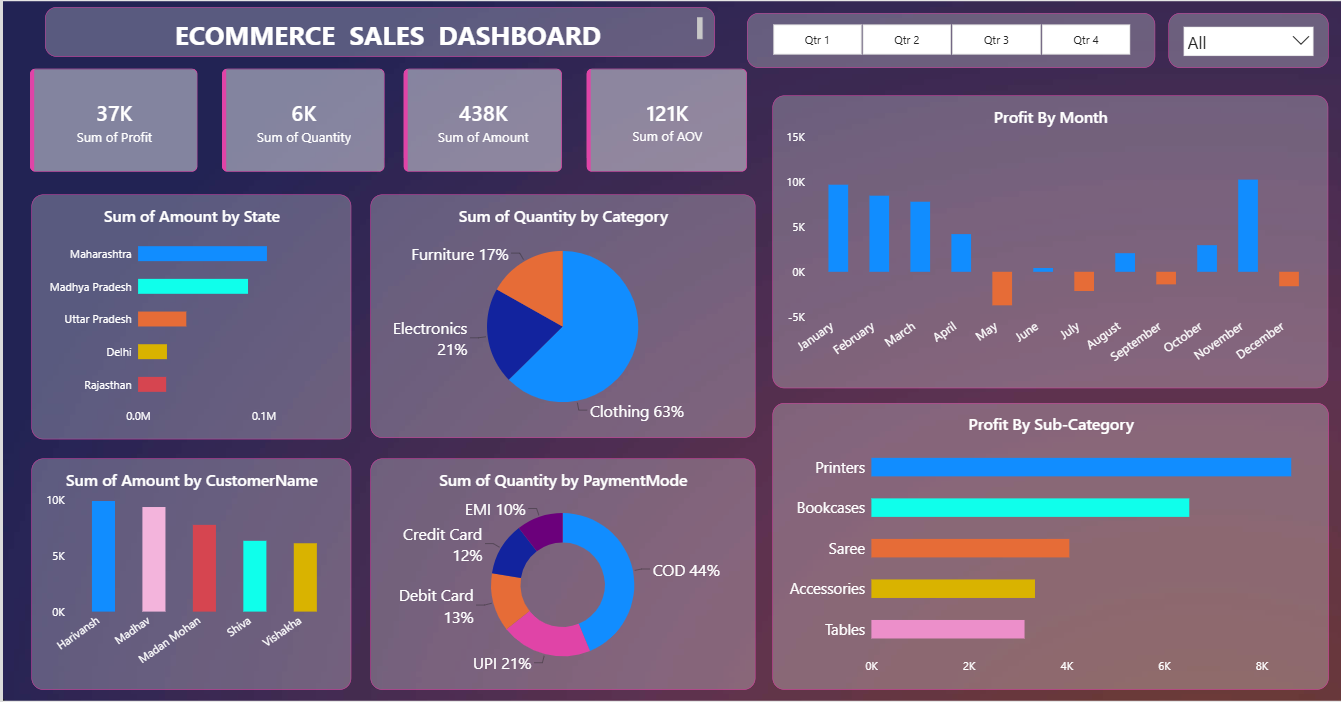

What the dashboard file says about the page in this screenshot:
{"tool":"powerbi","page":{"name":"Page 1","canvas":[1920,1080],"ordinal":0},"visuals":[{"type":"textbox","box":[59.6,42.9,959.1,71.6],"z":0},{"type":"columnChart","title":"Profit By Month","fields":{"Category":["Orders.Order Date.Variation.Date Hierarchy.Month"],"Y":["Sum(Details.Profit)"]},"box":[1102.8,170.1,795.9,419.2],"z":1000},{"type":"clusteredBarChart","title":" Profit By Sub-Category","fields":{"Category":["Details.Sub-Category"],"Y":["Sum(Details.Profit)"]},"box":[1102.3,610.8,796.9,410.4],"z":2000},{"type":"donutChart","fields":{"Category":["Details.Category"],"Y":["Sum(Details.Quantity)"]},"box":[527.3,312.6,551.1,348.3],"z":3000},{"type":"donutChart","fields":{"Category":["Details.PaymentMode"],"Y":["Sum(Details.Quantity)"]},"box":[527.3,689.5,551.1,331.6],"z":4000},{"type":"clusteredBarChart","fields":{"Category":["Orders.State"],"Y":["Sum(Details.Amount)"]},"box":[40.6,312.6,458.1,350.7],"z":5000},{"type":"columnChart","fields":{"Category":["Orders.CustomerName"],"Y":["Sum(Details.Amount)"]},"box":[40.6,689.5,458.1,331.6],"z":6000},{"type":"cardVisual","fields":{"Data":["Sum(Details.Profit)"]},"box":[39.5,130.6,240,148.9],"z":7000},{"type":"cardVisual","fields":{"Data":["Sum(Details.Quantity)"]},"box":[312.9,130.6,233.9,148.9],"z":8000},{"type":"cardVisual","fields":{"Data":["Sum(Details.Amount)"]},"box":[574.2,130.6,227.8,148.9],"z":9000},{"type":"cardVisual","fields":{"Data":["Sum(Details.AOV)"]},"box":[835.4,130.6,230.9,148.9],"z":10000},{"type":"slicer","fields":{"Values":["Orders.Order Date.Variation.Date Hierarchy.Quarter"]},"box":[1066.5,52.5,584.5,78.7],"z":11000},{"type":"slicer","fields":{"Values":["Orders.City"]},"box":[1670.1,52.5,229,78.7],"z":12000}]}

Visuals, with their boxes on the page's 1920x1080 design canvas (x1, y1, x2, y2). These are canvas units, not pixel positions in the 1341x702 screenshot, which may show the page scaled, cropped or inside an application window:
textbox: region(60, 43, 1019, 114)
"Profit By Month" columnChart: region(1103, 170, 1899, 589)
" Profit By Sub-Category" clusteredBarChart: region(1102, 611, 1899, 1021)
donutChart - Details.Category x Sum(Details.Quantity): region(527, 313, 1078, 661)
donutChart - Details.PaymentMode x Sum(Details.Quantity): region(527, 690, 1078, 1021)
clusteredBarChart - Orders.State x Sum(Details.Amount): region(41, 313, 499, 663)
columnChart - Orders.CustomerName x Sum(Details.Amount): region(41, 690, 499, 1021)
cardVisual - Sum(Details.Profit): region(40, 131, 280, 280)
cardVisual - Sum(Details.Quantity): region(313, 131, 547, 280)
cardVisual - Sum(Details.Amount): region(574, 131, 802, 280)
cardVisual - Sum(Details.AOV): region(835, 131, 1066, 280)
slicer - Orders.Order Date.Variation.Date Hierarchy.Quarter: region(1066, 52, 1651, 131)
slicer - Orders.City: region(1670, 52, 1899, 131)
